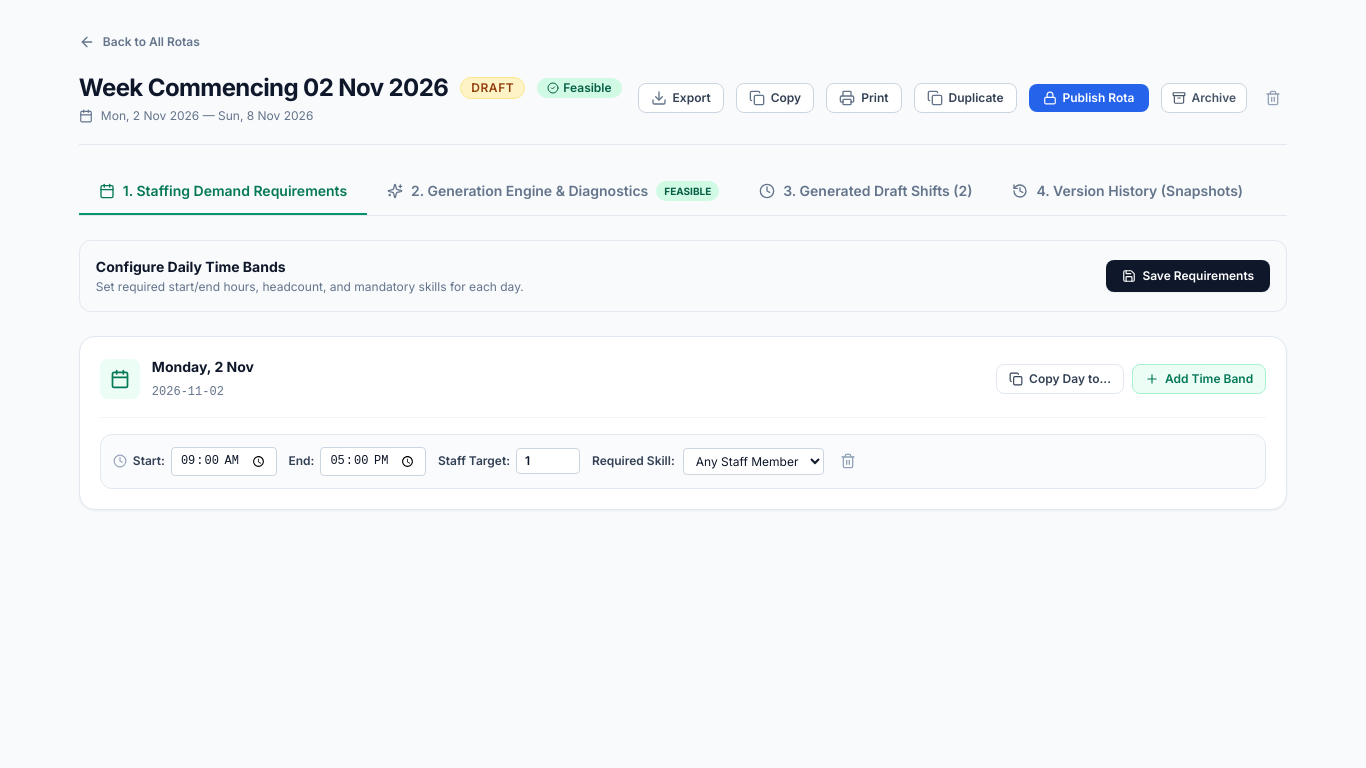
Test: RotaDetailPage Component › switches to Generation Engine tab and displays solver controls & diagnostics
Expected: the heading "Week Commencing 02 Nov 2026" is shown, [79,72,448,104]
Click the text "2. Generation Engine & Diagnostics" at (530, 191), box [411,181,648,201]
(page scrolled)
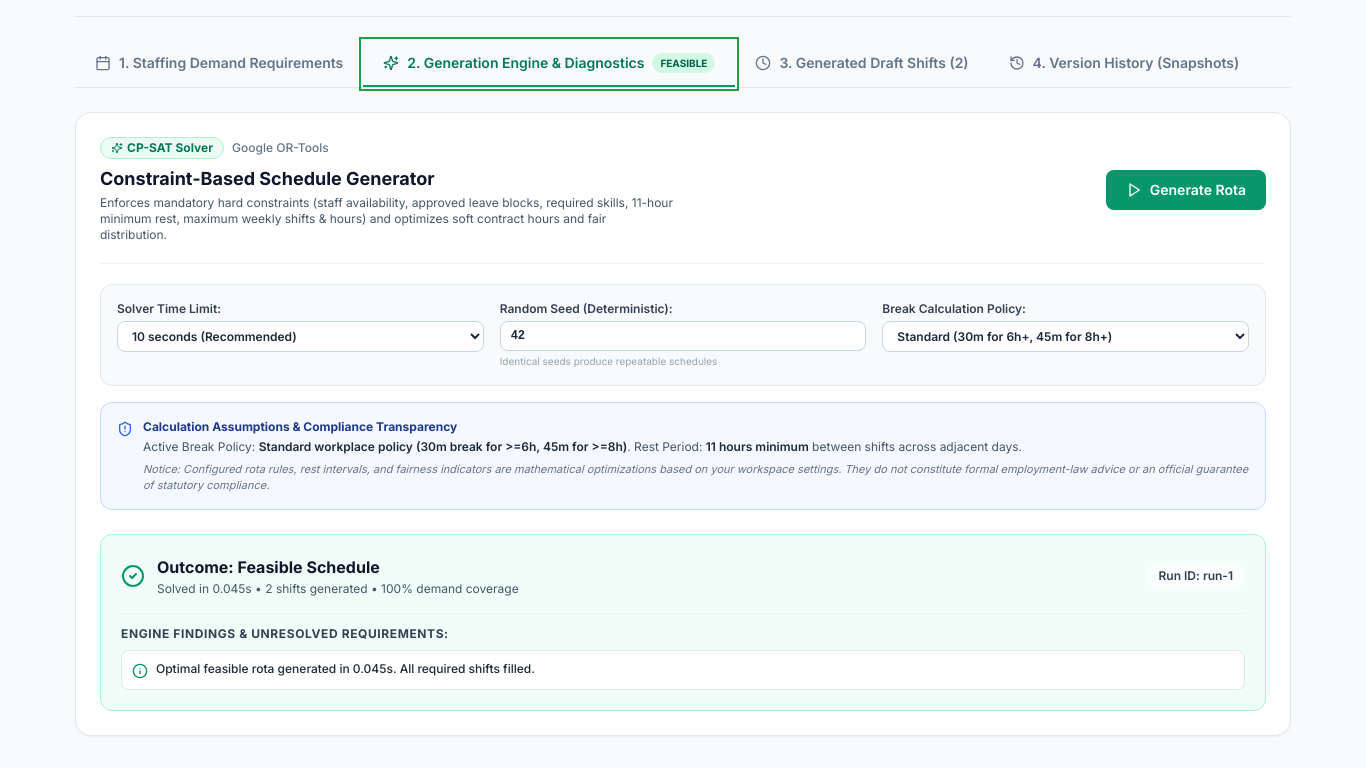
Now the heading "Constraint-Based Schedule Generator" is shown, box [100,168,434,189]
Now the button "Generate Rota" is shown, box [1106,170,1266,210]
Now the heading "Outcome: feasible Schedule" is shown, box [157,556,380,576]
